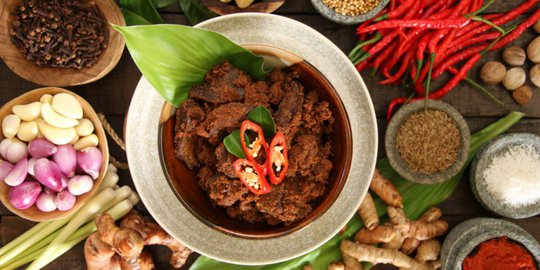rendang: (160, 45, 354, 231)
